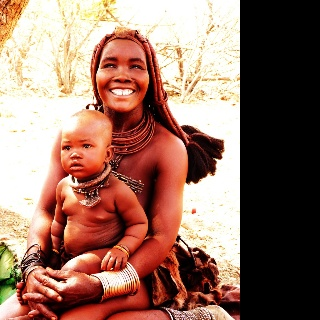without_mask: (96, 39, 150, 112), (60, 118, 105, 177)
